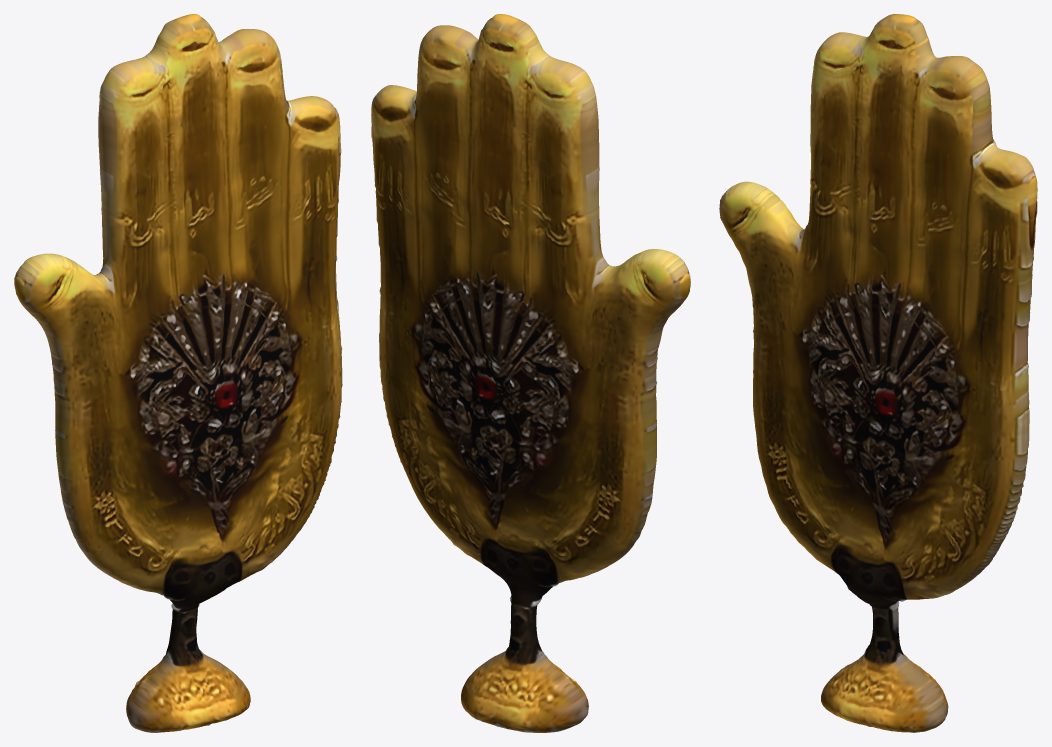
File: kfl-2146.glb
3 views of the same model, side by side, from view 1: azimuth 30°, elevation 25°; view 2: azimuth 150°, elevation 25°; view 3: azimuth 330°, elevation 25° (orthographic).
Parts seen in each view (by area): view 1: kfl-2146; view 2: kfl-2146; view 3: kfl-2146.
Part boxes in pixels (x1,y1,x2,y2): kfl-2146: (14,14,342,732); kfl-2146: (371,14,690,732); kfl-2146: (719,14,1037,732).
Size of the model in its own units: 0.4727 by 0.9967 by 0.1249.
Materials: 1 (1 with a texture image).
